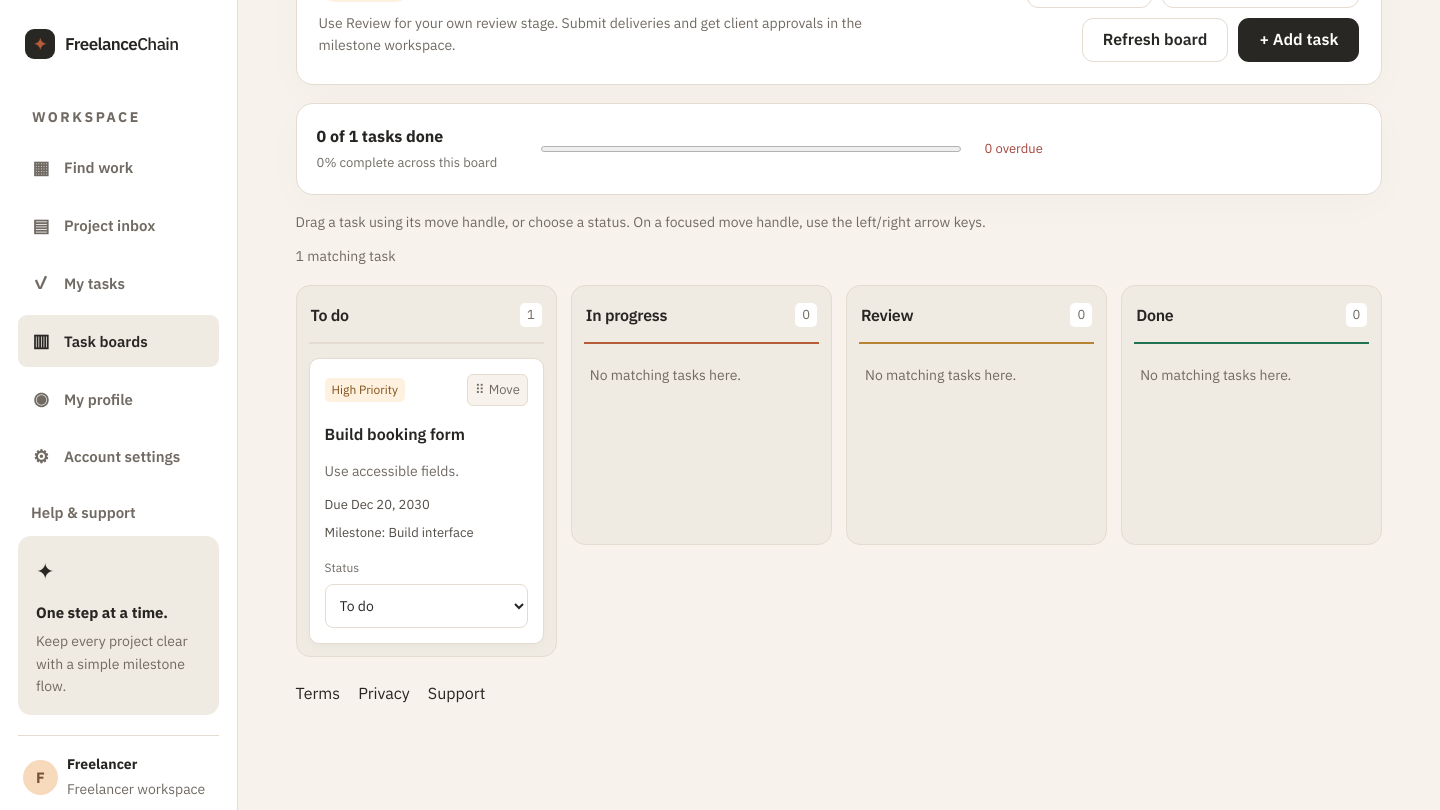
Test: moving a task out of the active filter refreshes results and overall completion
(page scrolled)
Step 1. Select "Done" in the dropdown labelled "Status" → (426, 606), box [325,584,528,628]
(page scrolled)
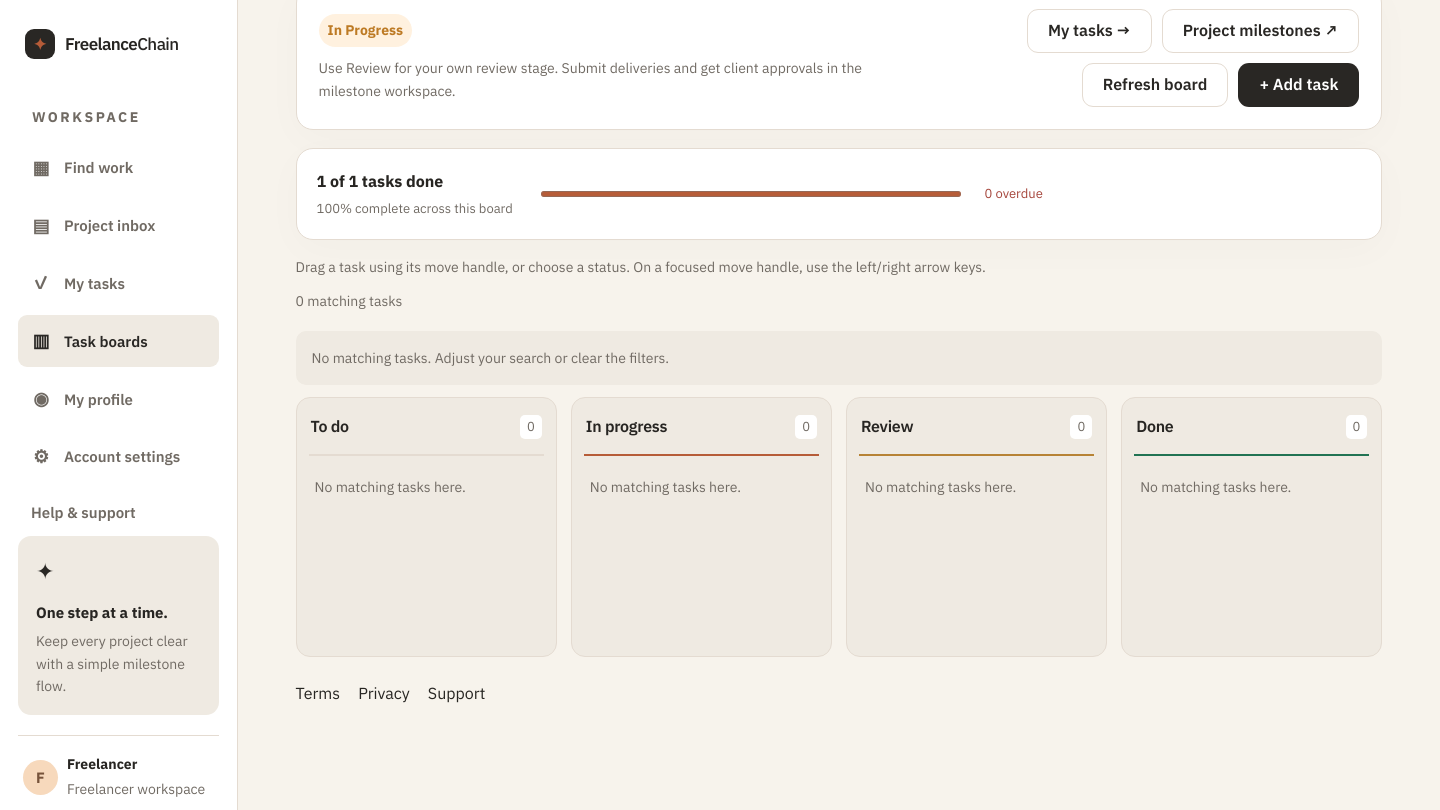
Result: the text "No matching tasks. Adjust your search or clear the filters." is shown at [296,331,1382,385]
Result: the button "Build booking form" is gone
Result: the text "1 of 1 tasks done" is shown at [317,171,443,191]
